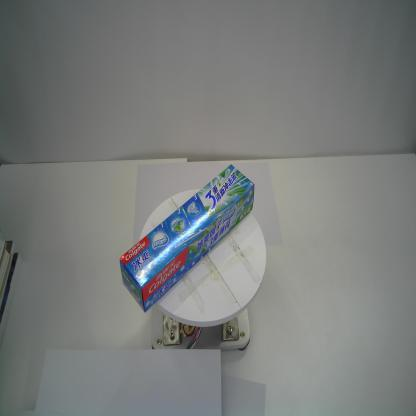Personal Hygiene: (119, 164, 256, 314)
